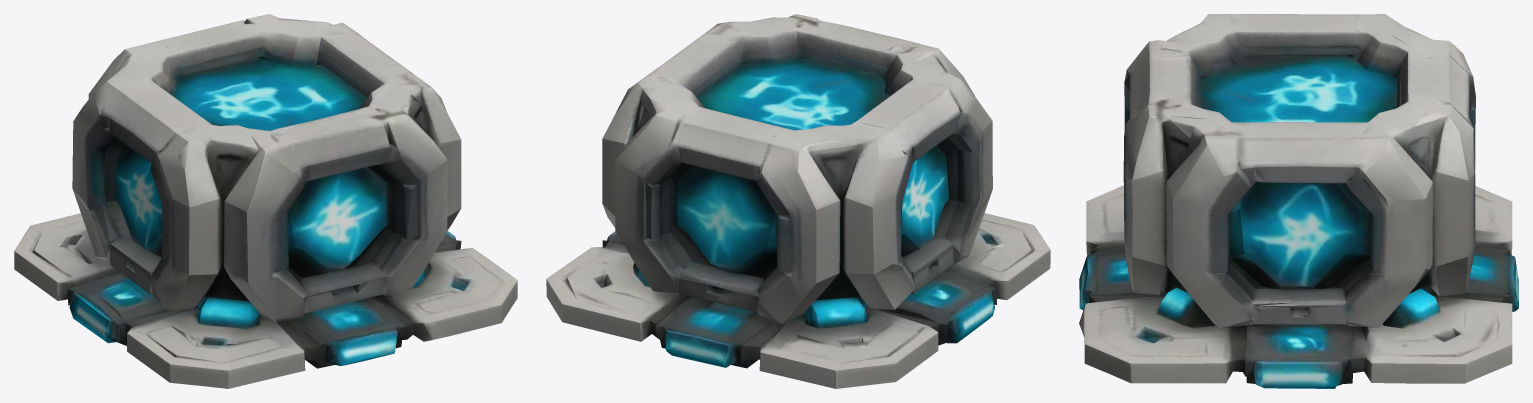
Rendered from m2SpacePod.glb.
3 views of the same model, side by side, from view 1: azimuth 30°, elevation 25°; view 2: azimuth 150°, elevation 25°; view 3: azimuth 270°, elevation 25° (orthographic). The views are drawn at different scales.
Parts seen in each view (by area): view 1: model; view 2: model; view 3: model.
Boxes of the visible parts, x1,y1,x2,y2 form: model: (14, 14, 517, 388); model: (546, 14, 1050, 388); model: (1079, 14, 1518, 388).
Size of the model in its own units: 1.88 by 1.06 by 1.89.
1 material, 1 textured.
